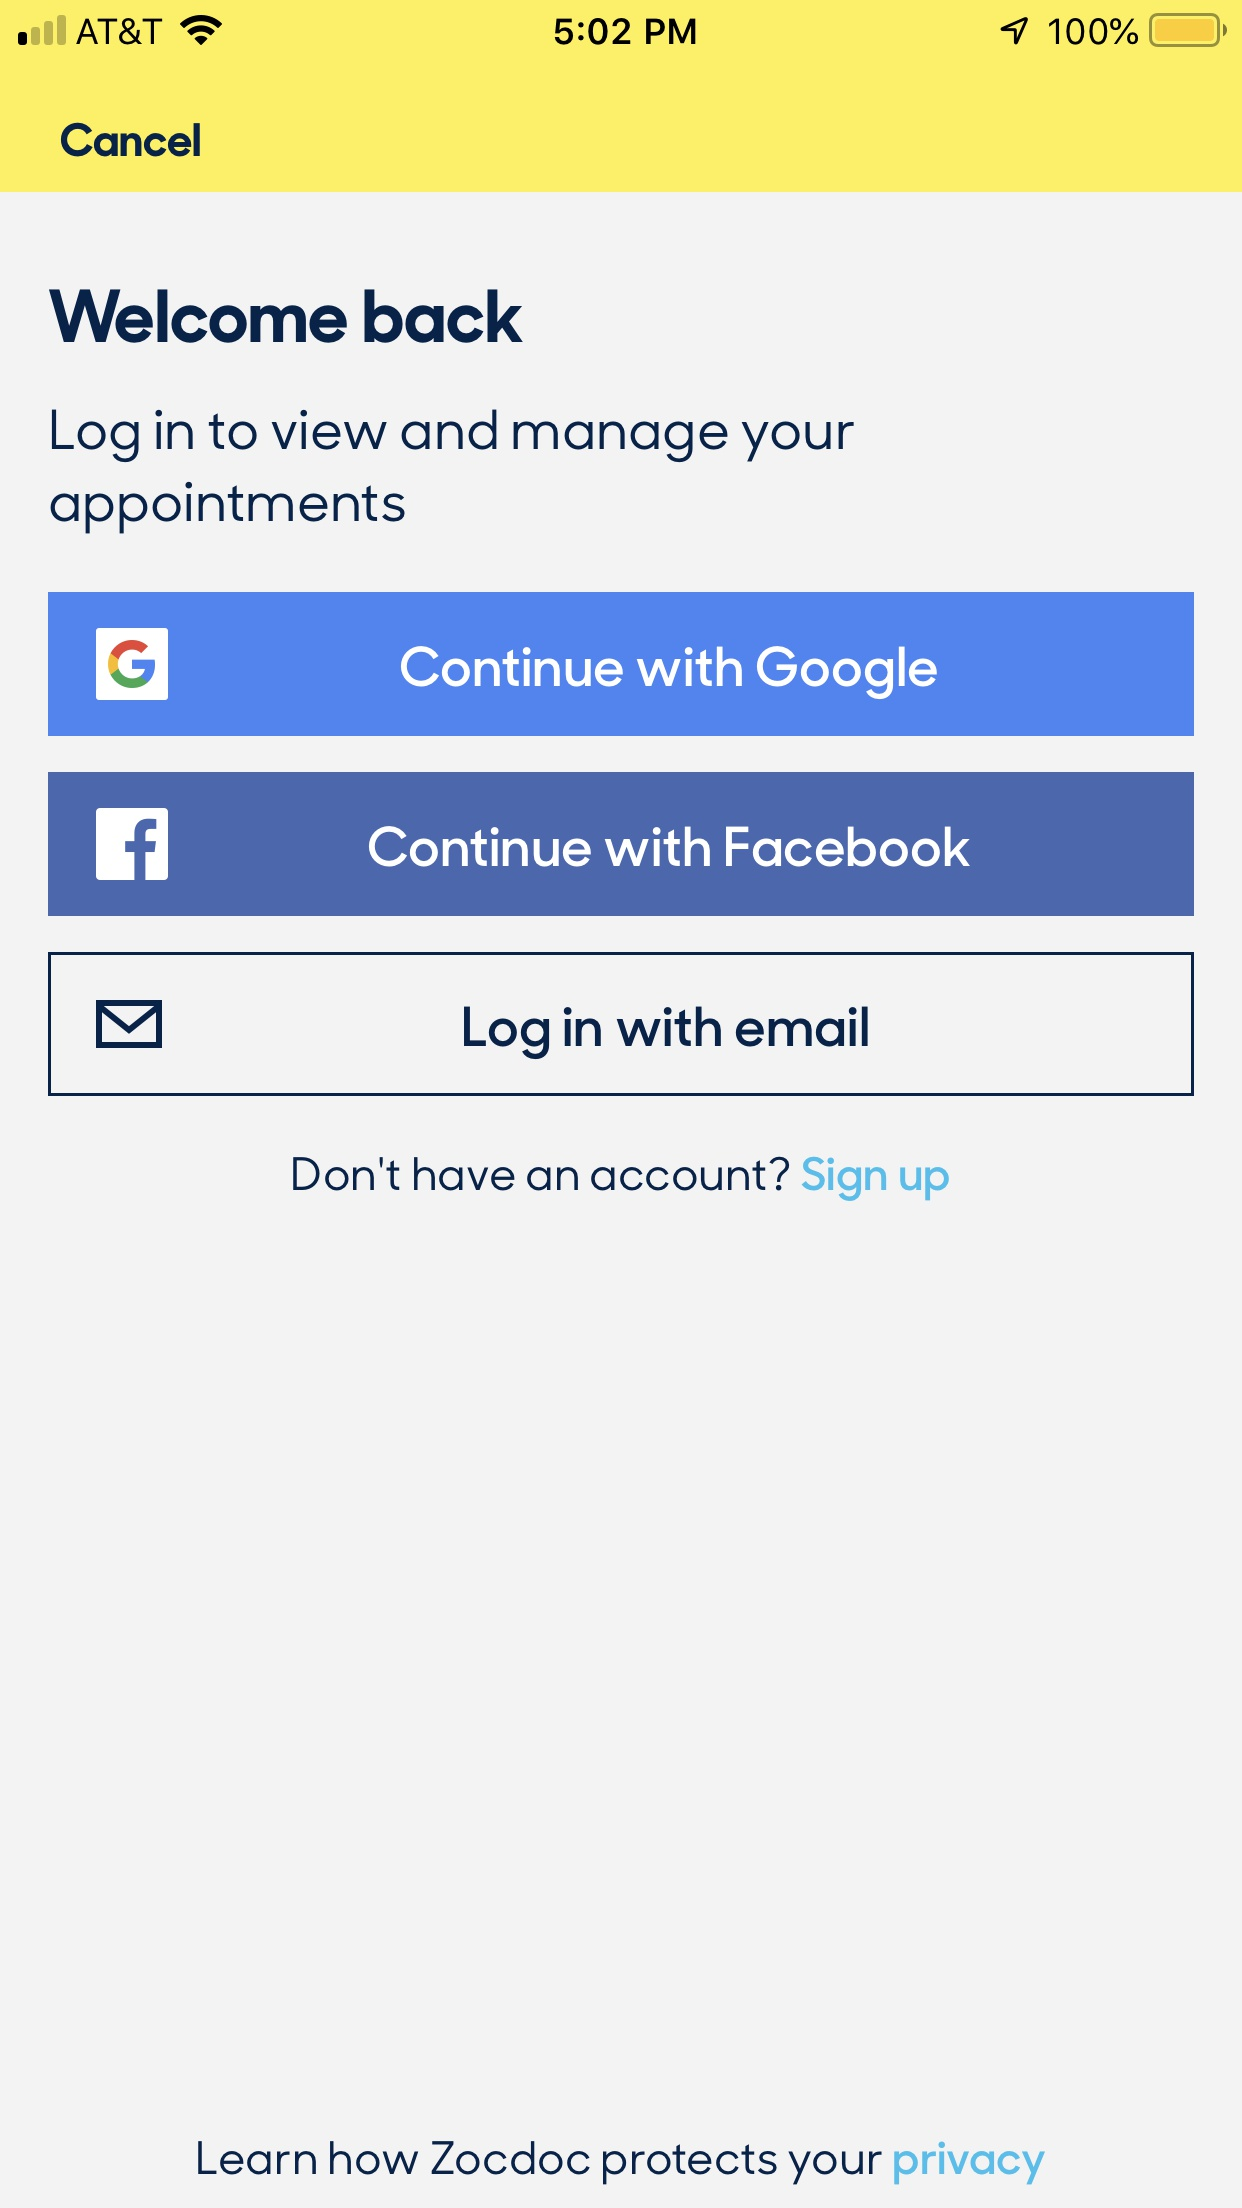Text: (52, 409, 855, 535), (199, 2140, 1046, 2185), (293, 1156, 949, 1203), (49, 290, 525, 346), (62, 121, 202, 158)
TextButton: (49, 591, 1195, 737), (49, 772, 1195, 917), (49, 951, 1195, 1096)
UpperTaskBar: (2, 2, 1242, 49)
